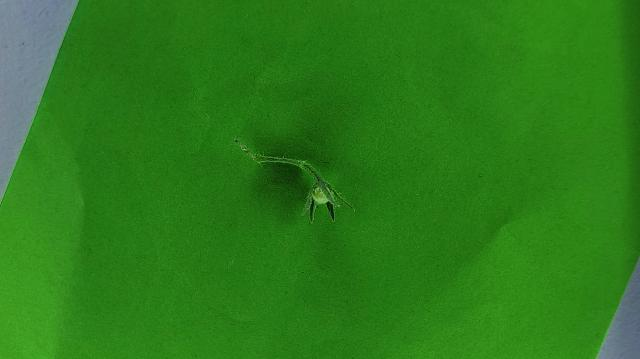Flower Bud: (240, 0, 241, 33)
Fruit Bud: (303, 182, 340, 224)
